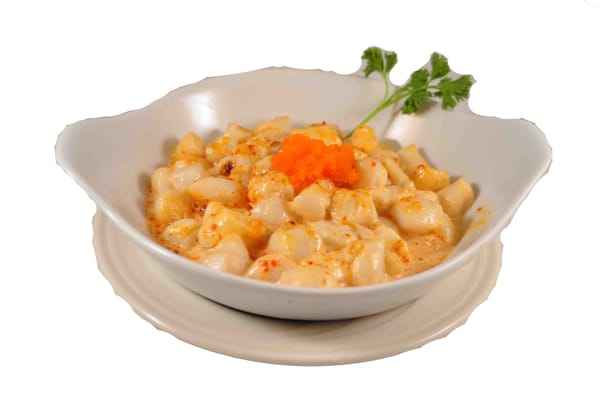sushi: (59, 61, 509, 321)
